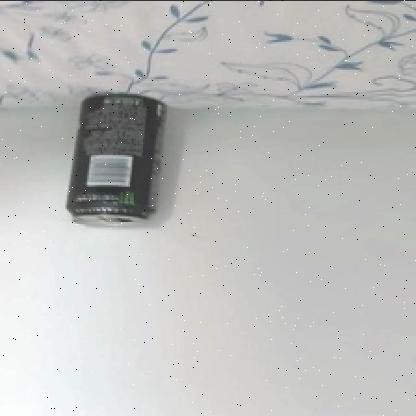Can: (65, 89, 167, 232)
